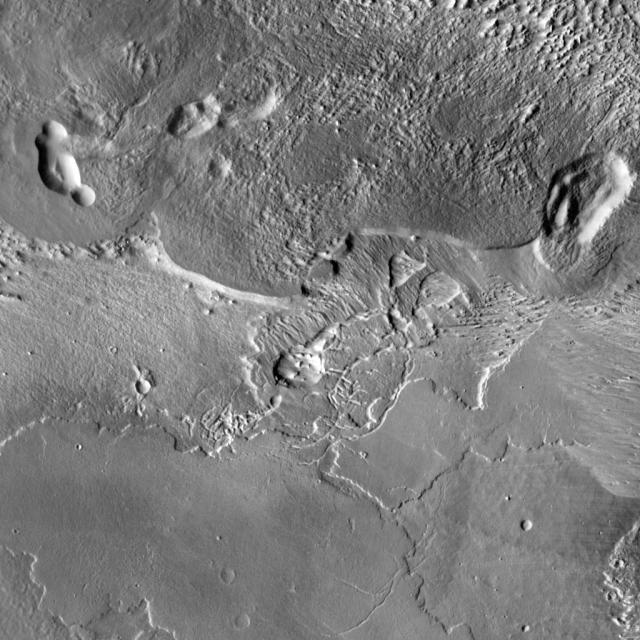crater: (136, 380, 150, 394), (518, 520, 530, 532), (609, 593, 619, 602), (521, 626, 529, 634)
